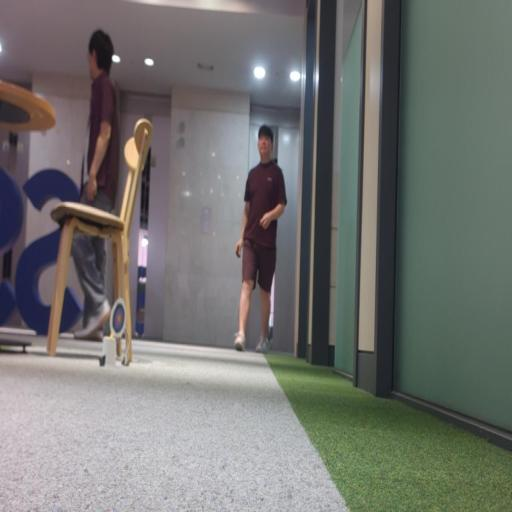target: (110, 297, 127, 338)
